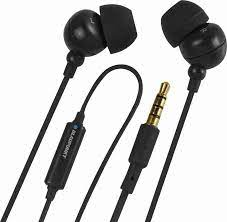earphone: (21, 2, 227, 214)
